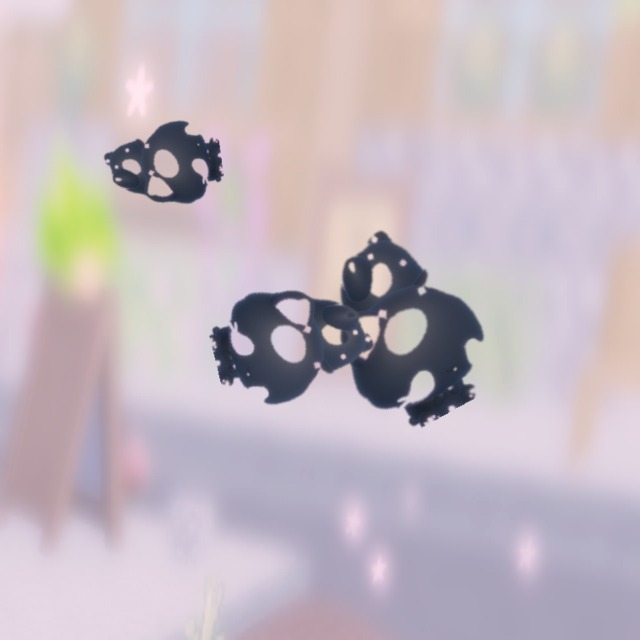urso_preto: (282, 191, 524, 450), (200, 260, 396, 428), (91, 107, 228, 219)
